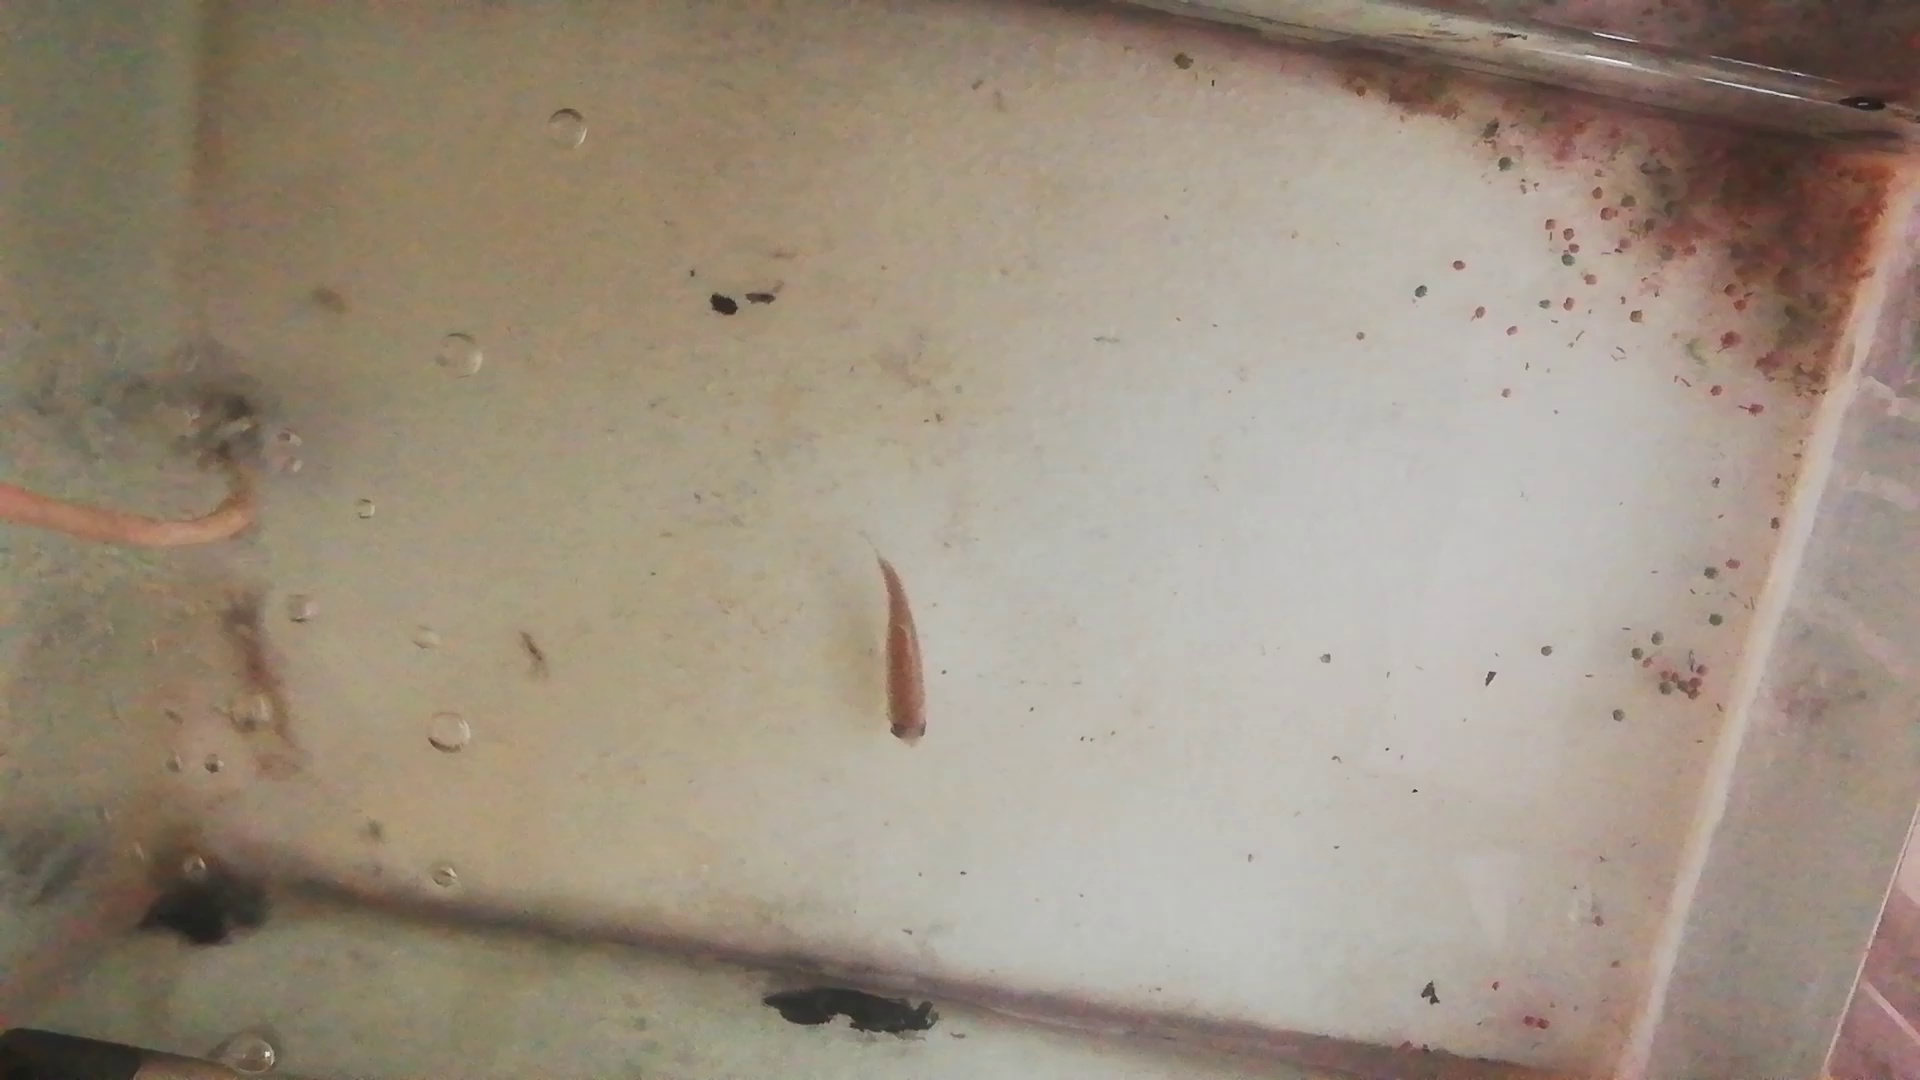fish: (210, 585, 293, 770), (880, 556, 940, 748)
